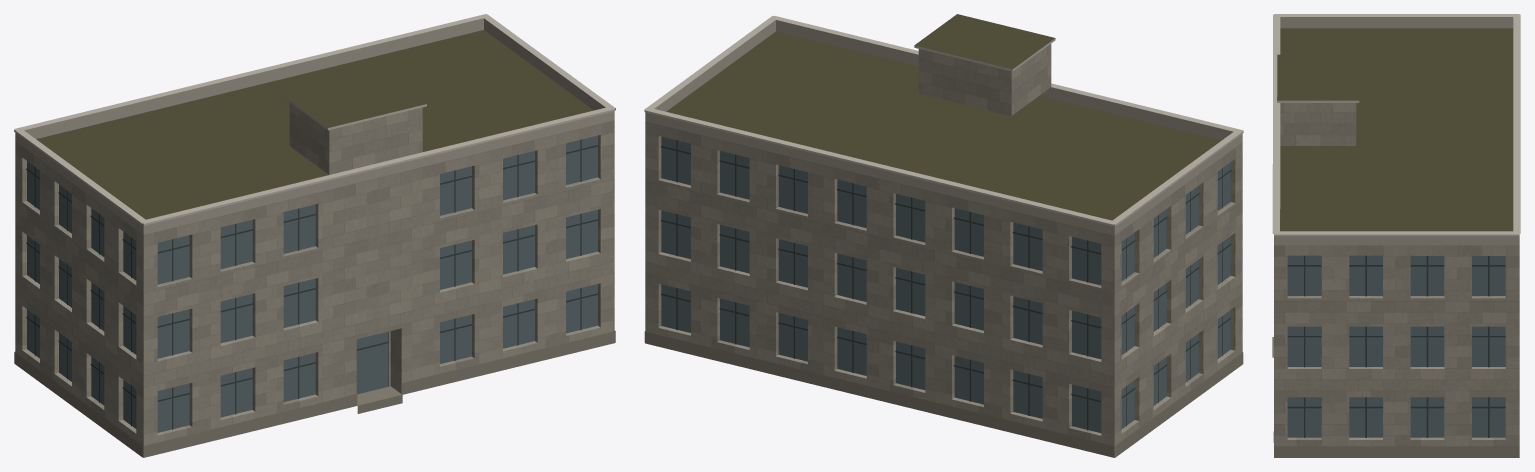
3 renders of one model, left to right at view 1: azimuth 30°, elevation 25°; view 2: azimuth 150°, elevation 25°; view 3: azimuth 270°, elevation 25°, orthographic. The views are drawn at different scales.
Parts seen in each view (by area): view 1: gradAnnex__wall, gradAnnex__roof, gradAnnex__glass, gradAnnex__parapet, gradAnnex__base, gradAnnex__trim, gradAnnex__frame; view 2: gradAnnex__wall, gradAnnex__roof, gradAnnex__glass, gradAnnex__parapet, gradAnnex__base, gradAnnex__trim, gradAnnex__frame; view 3: gradAnnex__roof, gradAnnex__wall, gradAnnex__glass, gradAnnex__trim, gradAnnex__parapet, gradAnnex__base, gradAnnex__frame.
Boxes of the visible parts, left/top/right/bottom form: gradAnnex__wall: left=15, top=102, right=614, bottom=457; gradAnnex__roof: left=36, top=30, right=593, bottom=457; gradAnnex__glass: left=27, top=135, right=597, bottom=432; gradAnnex__parapet: left=15, top=18, right=614, bottom=234; gradAnnex__base: left=14, top=330, right=615, bottom=457; gradAnnex__trim: left=14, top=14, right=615, bottom=225; gradAnnex__frame: left=26, top=139, right=598, bottom=429; gradAnnex__wall: left=645, top=44, right=1242, bottom=457; gradAnnex__roof: left=666, top=14, right=1221, bottom=457; gradAnnex__glass: left=661, top=136, right=1230, bottom=432; gradAnnex__parapet: left=645, top=20, right=1242, bottom=235; gradAnnex__base: left=644, top=331, right=1243, bottom=457; gradAnnex__trim: left=644, top=15, right=1243, bottom=226; gradAnnex__frame: left=661, top=140, right=1231, bottom=430; gradAnnex__roof: left=1277, top=28, right=1513, bottom=231; gradAnnex__wall: left=1274, top=103, right=1519, bottom=446; gradAnnex__glass: left=1287, top=255, right=1505, bottom=437; gradAnnex__trim: left=1272, top=14, right=1520, bottom=236; gradAnnex__parapet: left=1274, top=17, right=1519, bottom=245; gradAnnex__base: left=1272, top=337, right=1519, bottom=457; gradAnnex__frame: left=1287, top=255, right=1505, bottom=437.
Bounding box in the file's own units: 25.38 × 14.9 × 12.09.
Materials: 8 (1 with a texture image).
